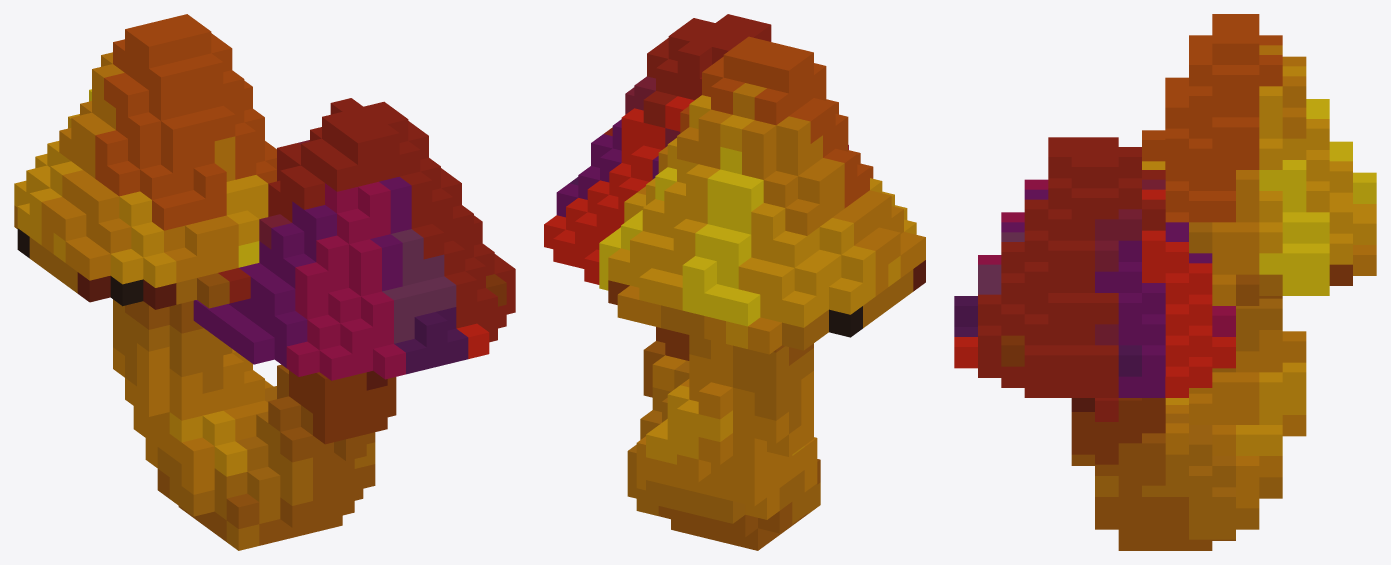
The model's file is overseer-mushroom-3-named-nodes.glb.
3 renders of one model, left to right at view 1: azimuth 30°, elevation 25°; view 2: azimuth 150°, elevation 25°; view 3: azimuth 270°, elevation 25°, orthographic. The views are drawn at different scales.
Visible parts, largest first — view 1: geometry_0; view 2: geometry_0; view 3: geometry_0.
Part boxes in pixels (left/top/right/bottom): geometry_0: left=14, top=14, right=515, bottom=550; geometry_0: left=544, top=14, right=925, bottom=550; geometry_0: left=954, top=14, right=1376, bottom=550.
Size of the model in its own units: 0.4998 by 0.6469 by 0.5292.
1 material, 1 textured.
